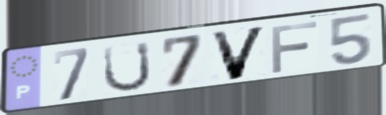5: (327, 11, 374, 67)
7: (160, 32, 207, 90), (52, 46, 92, 104)
F: (269, 19, 321, 75)
U: (101, 39, 154, 94)
V: (208, 24, 270, 83)
